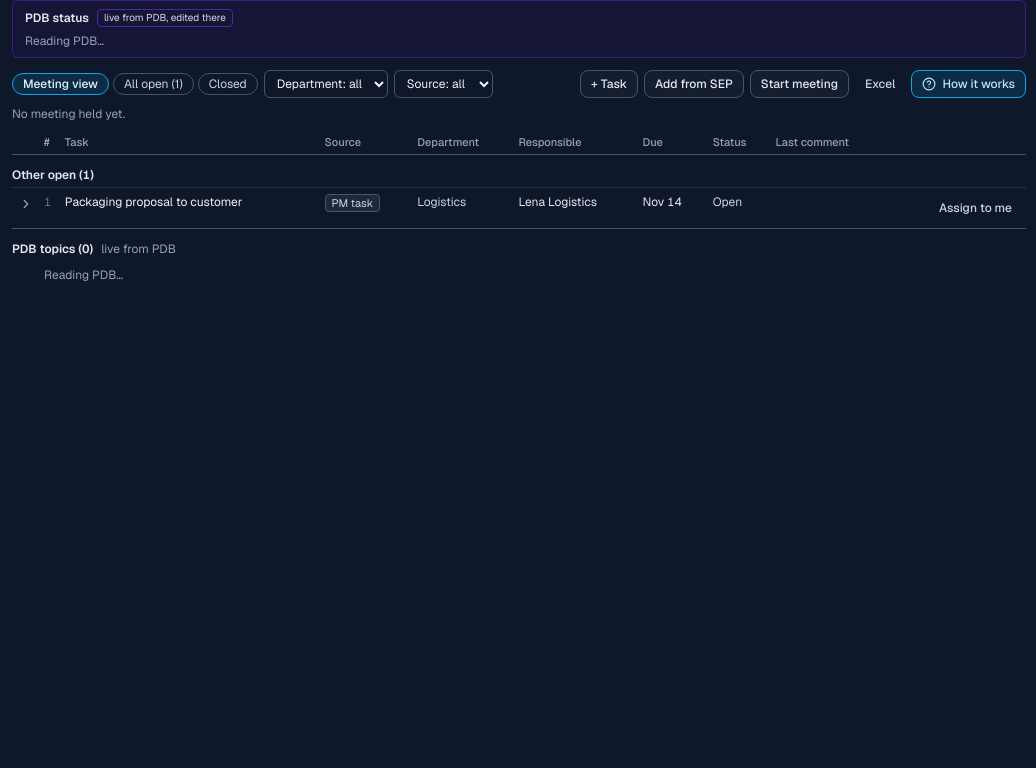
LOP equipment › says so when PLM has no equipment for the project
The width and height of the screenshot is (1036, 768).
Click the button "+ Task": click(609, 84) [580,70,638,98]
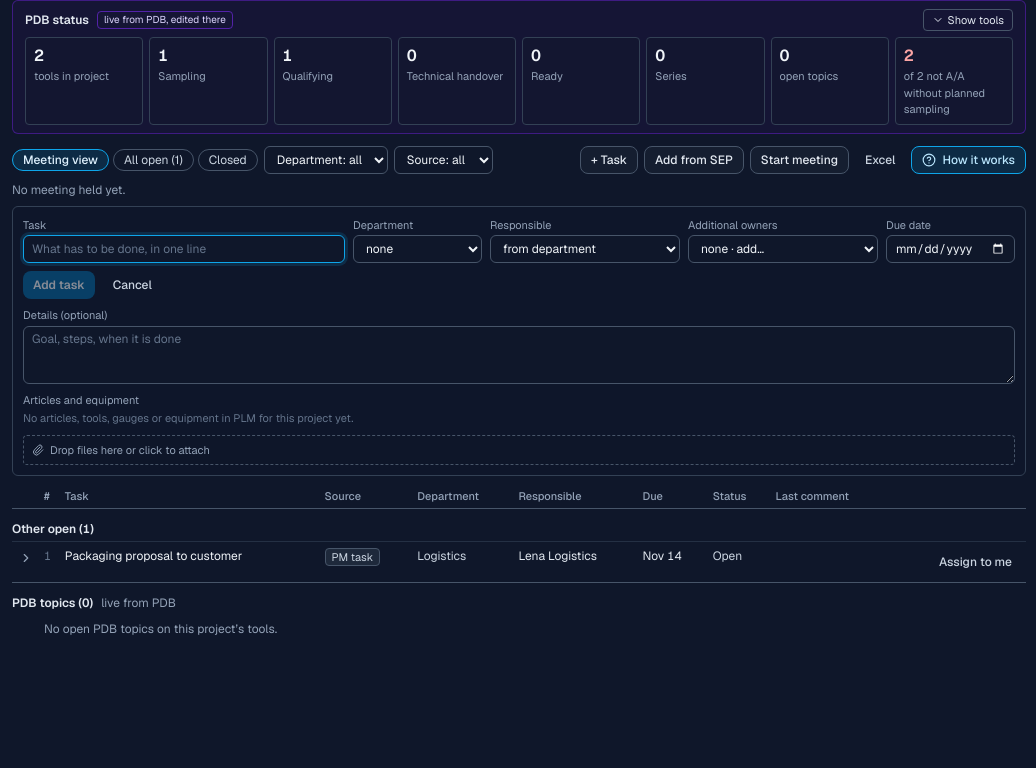
Now the text "No articles, tools, gauges or equipment in PLM" is shown, box [23,411,353,425]
